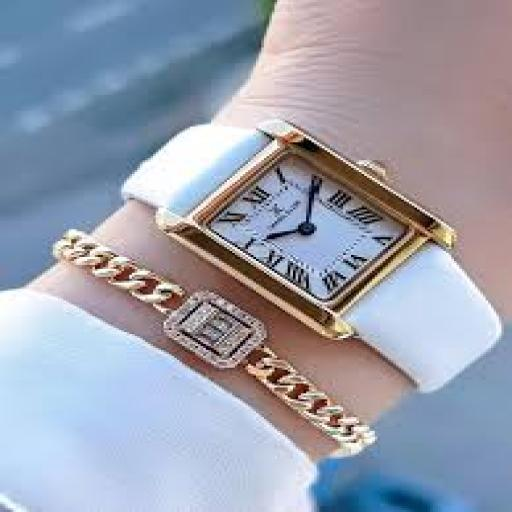KolSaati: (108, 108, 502, 394)
